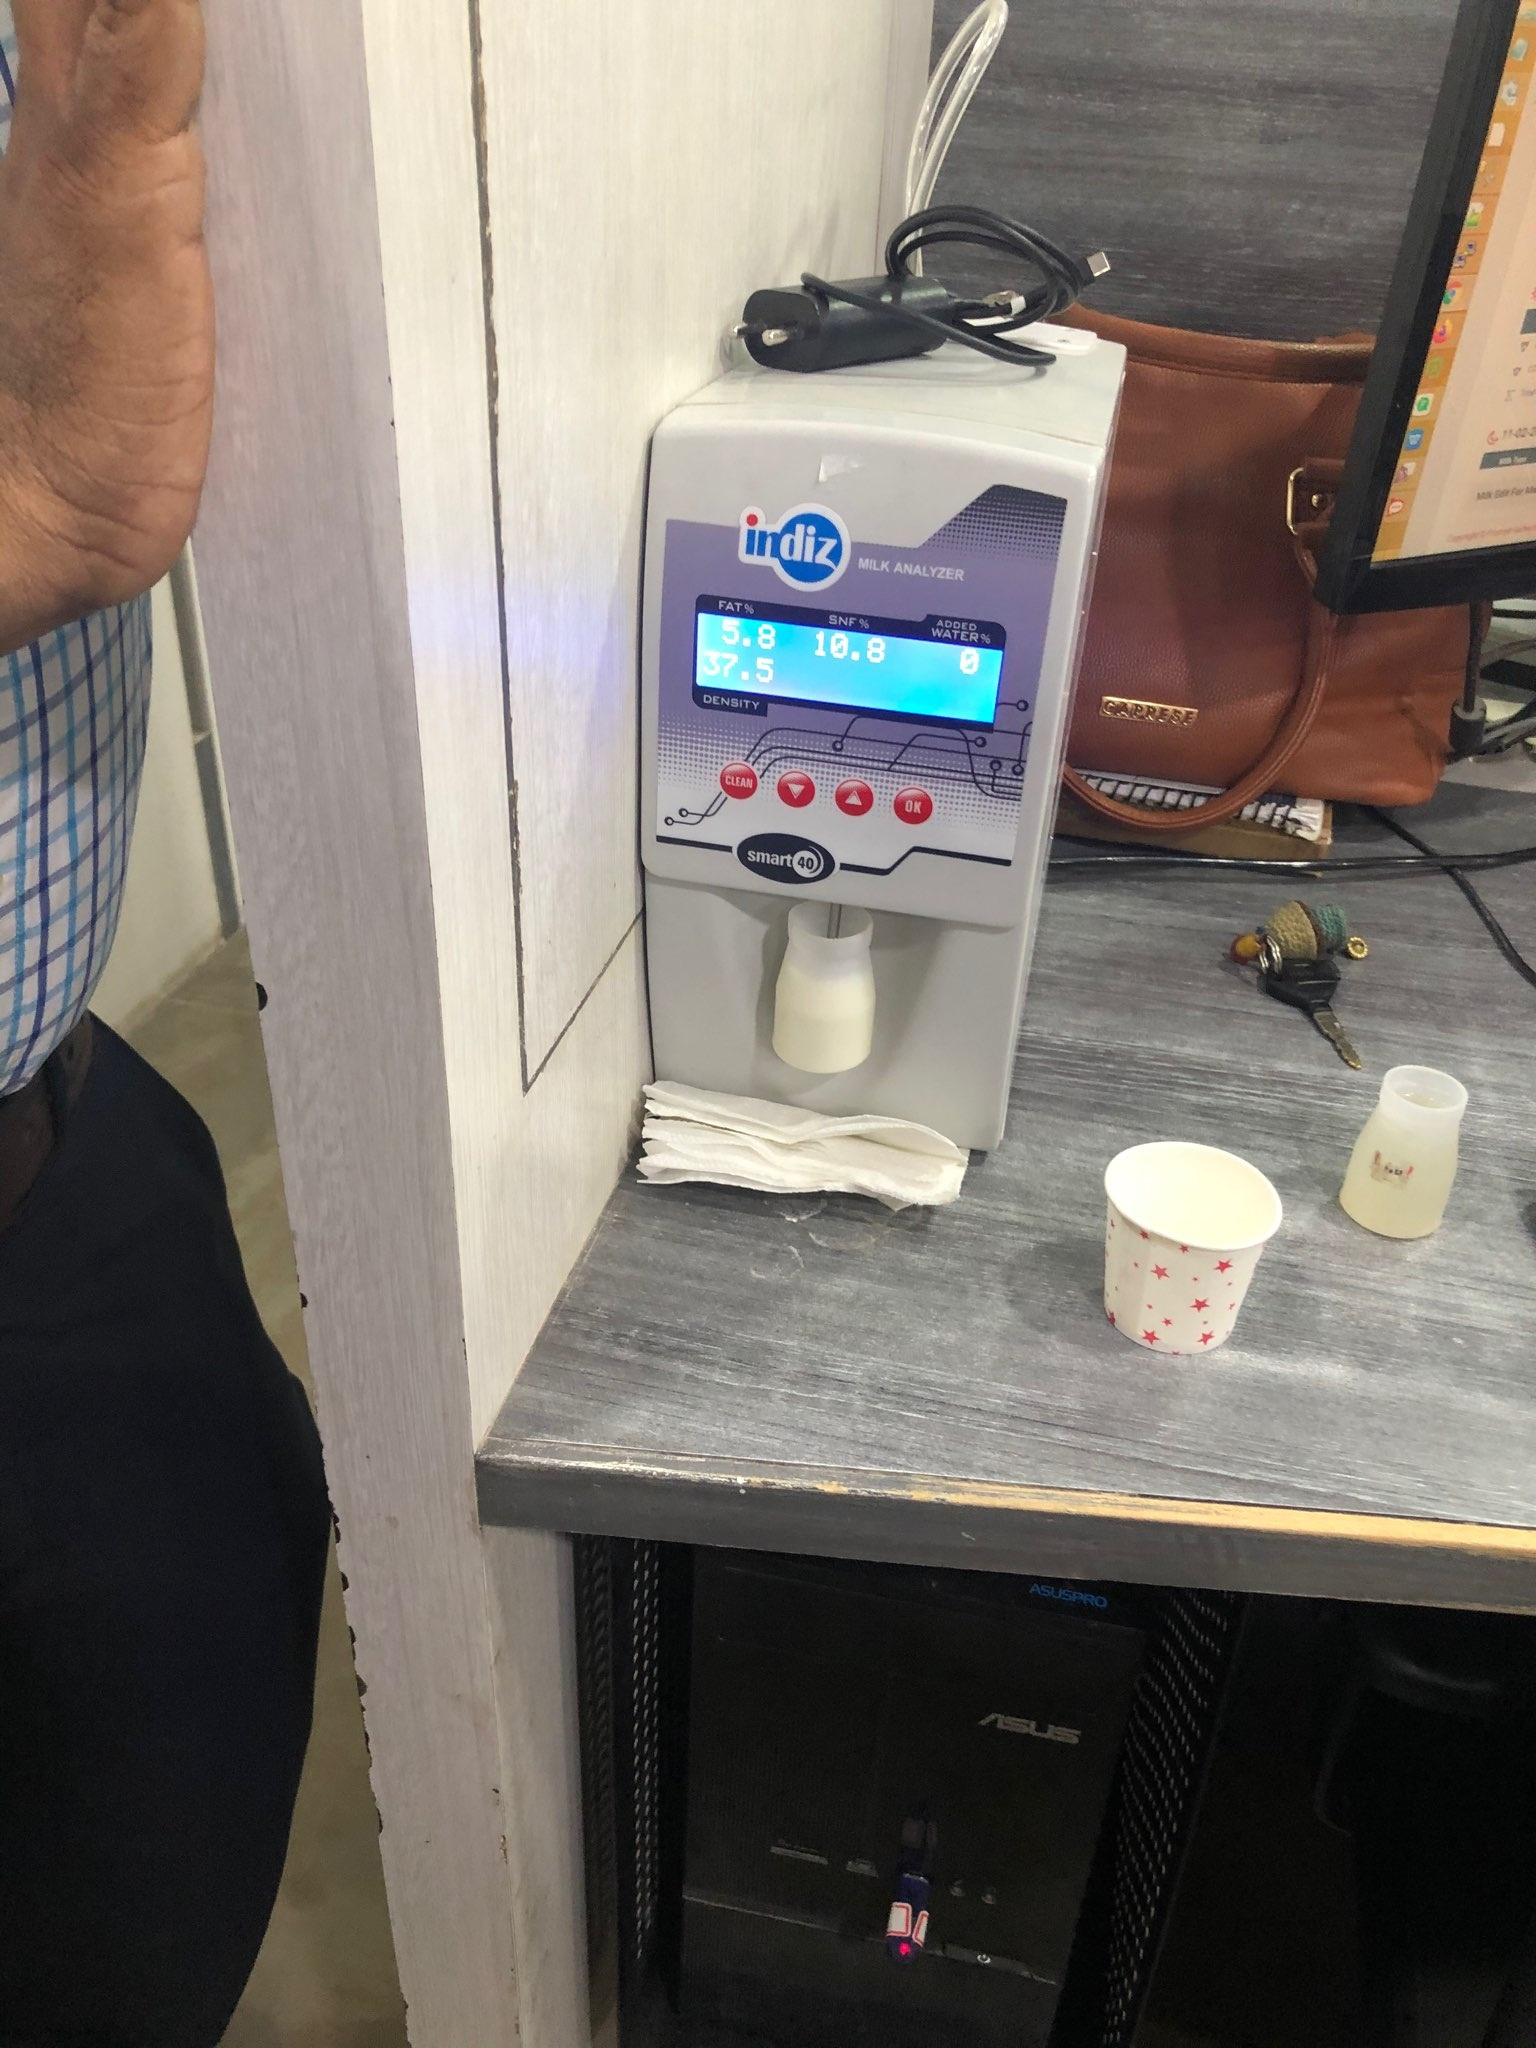lcd: (687, 590, 1010, 742)
